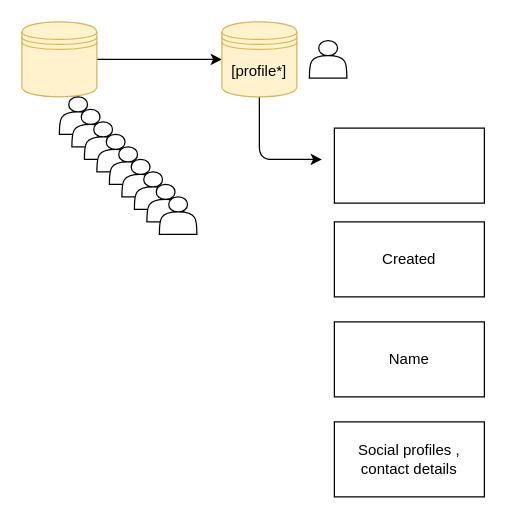
This 506x519 diagram has some shape labels left out. The shapes that lost their labels are listed below. From the top down, each one's box as (x1, y1, x2, y2) in pixels, then its label:
(21, 21, 97, 97): profiles
(333, 127, 484, 203): ID
